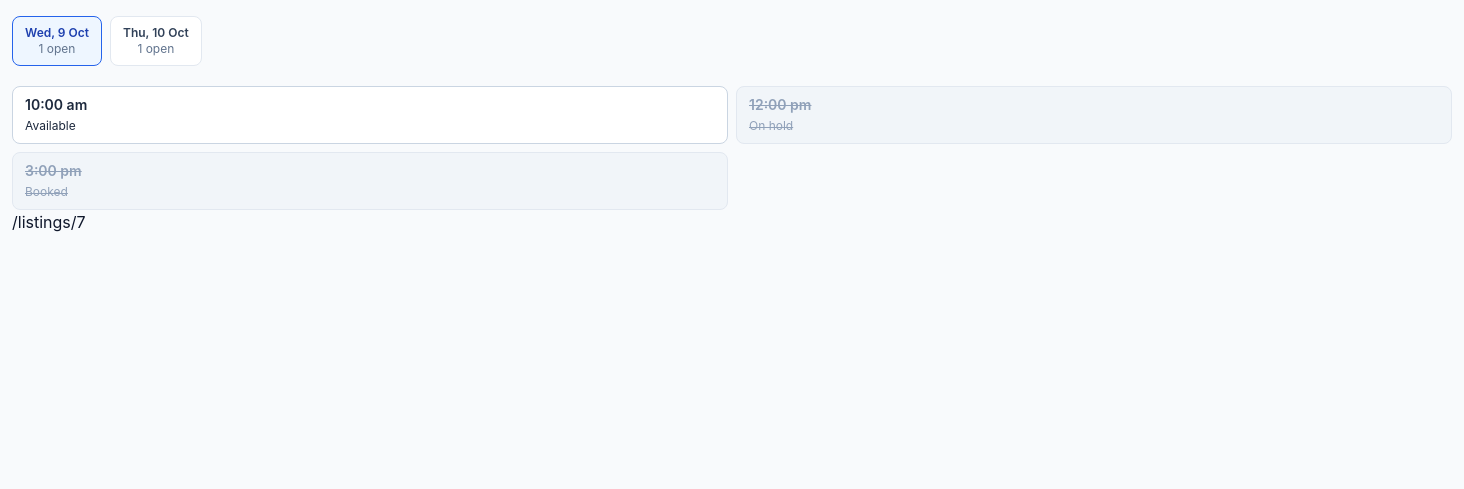
<SlotPicker> › holds a slot and starts a 5:00 countdown
The image size is (1464, 489).
Click the button with aria-label "10:00 am, available": click(56, 104) [12,86,728,144]
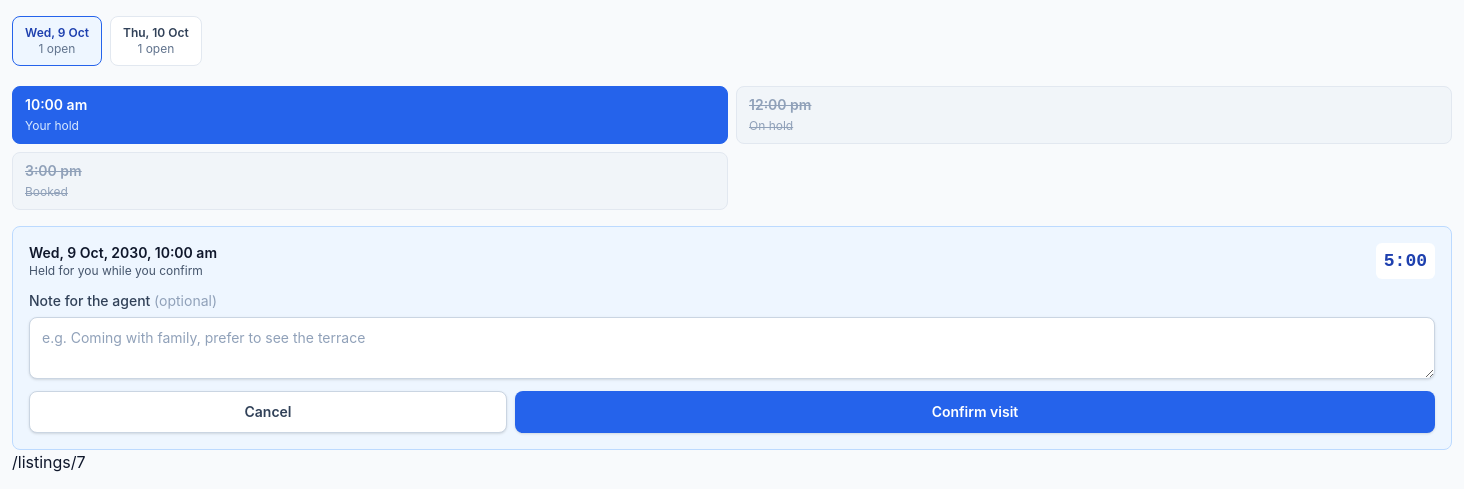
Expected: the text "5:00" is shown, [1376,243,1435,279]
